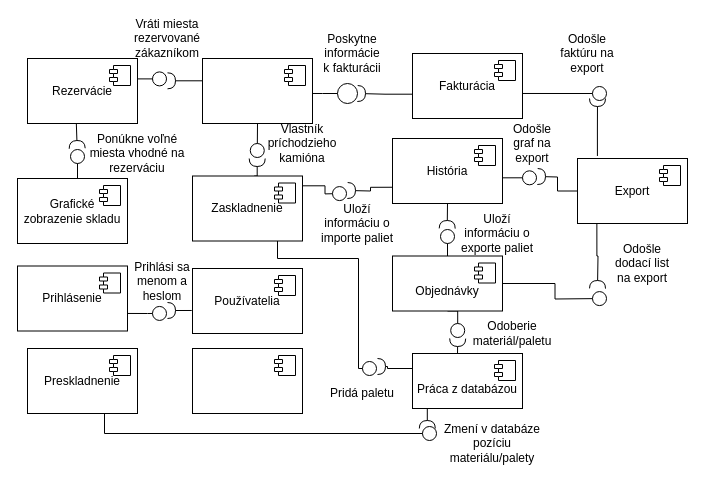
The diagram is 705 pixels wide and 482 high, and some of its shapes have lost their labels. Here are the shapes that lost their labels. From the top down, the centre of each, then its label:
point 257,91: Zákazníci
point 247,381: Import nového rozloženia skladu
